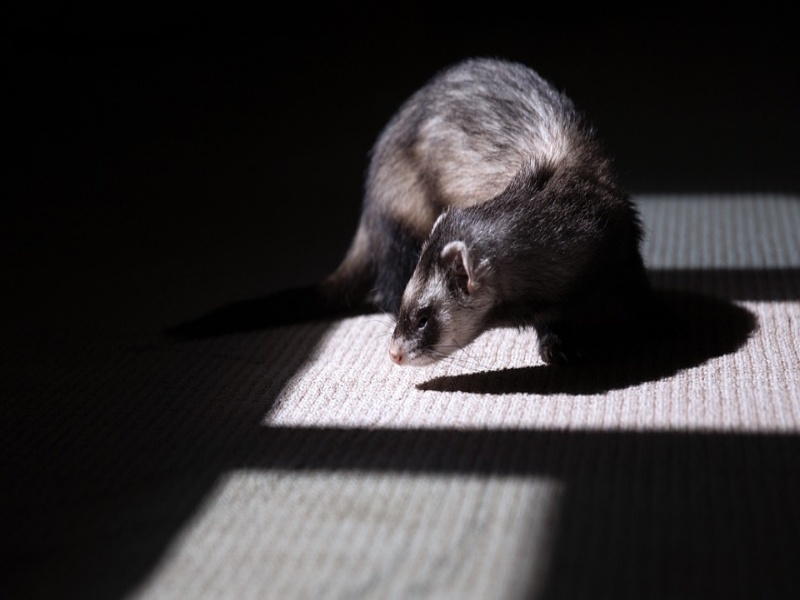minkish: (157, 48, 664, 385)
